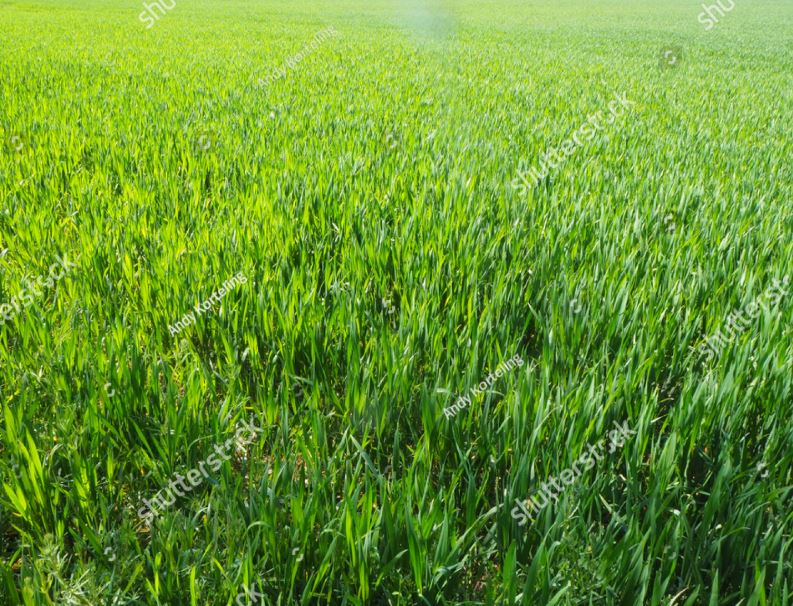Wheat: (260, 321, 528, 601)
